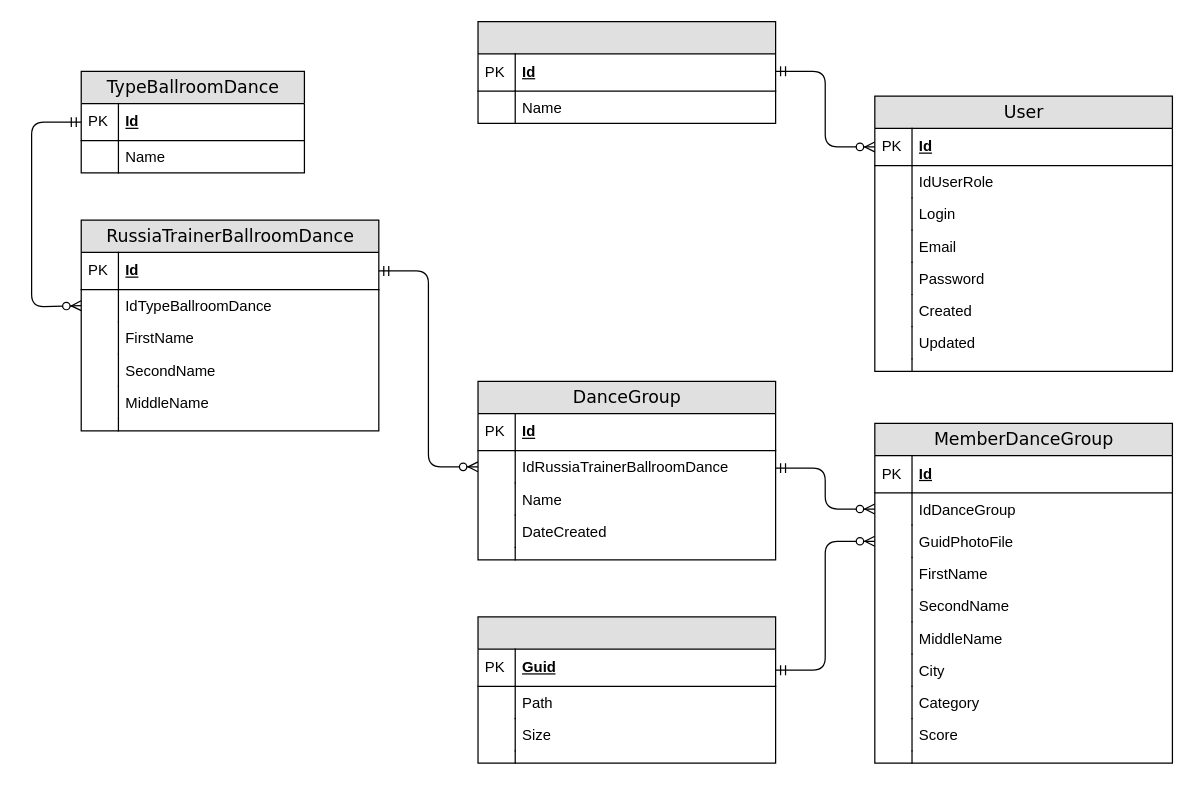
The diagram is 1194 pixels wide and 785 high, and some of its shapes have lost their labels. The shapes that lost their labels are listed below. From the top down, each one's box as (x1, y1, x2, y2) in pixels, then its label:
(477, 20, 776, 123): UserRole
(477, 616, 776, 763): File
